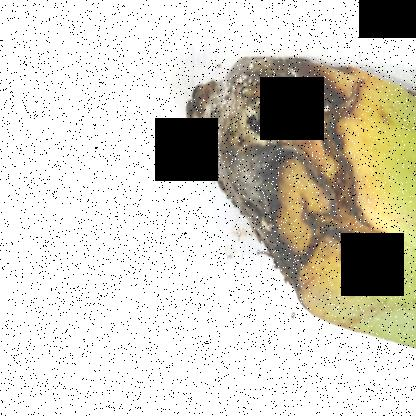rotten: (178, 35, 408, 333)
